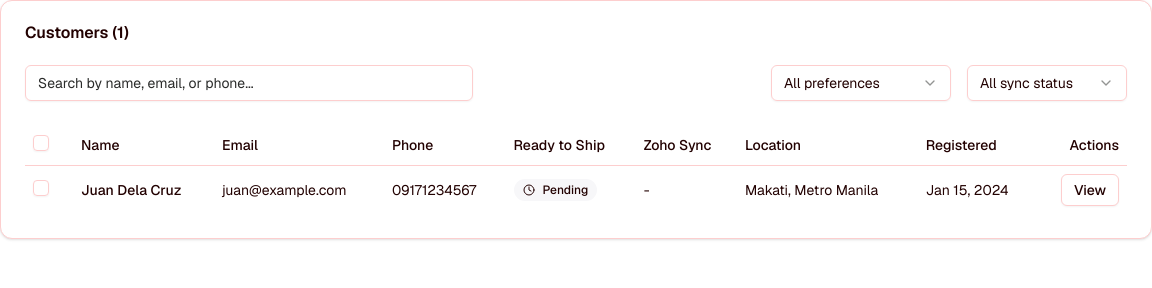
Test case: CustomerList Component › Clear Filters › should show clear filters button when search is active
Expected: the text "Clear filters" is not shown
Type "test" into the field with placeholder "Search by name, email, or phone..." at (249, 83), box [25, 65, 473, 101]
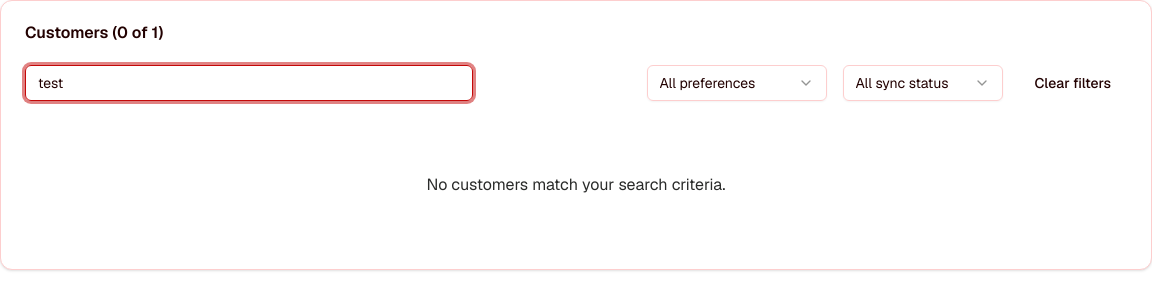
Expected: the button "Clear filters" is shown, [1018, 65, 1127, 101]
